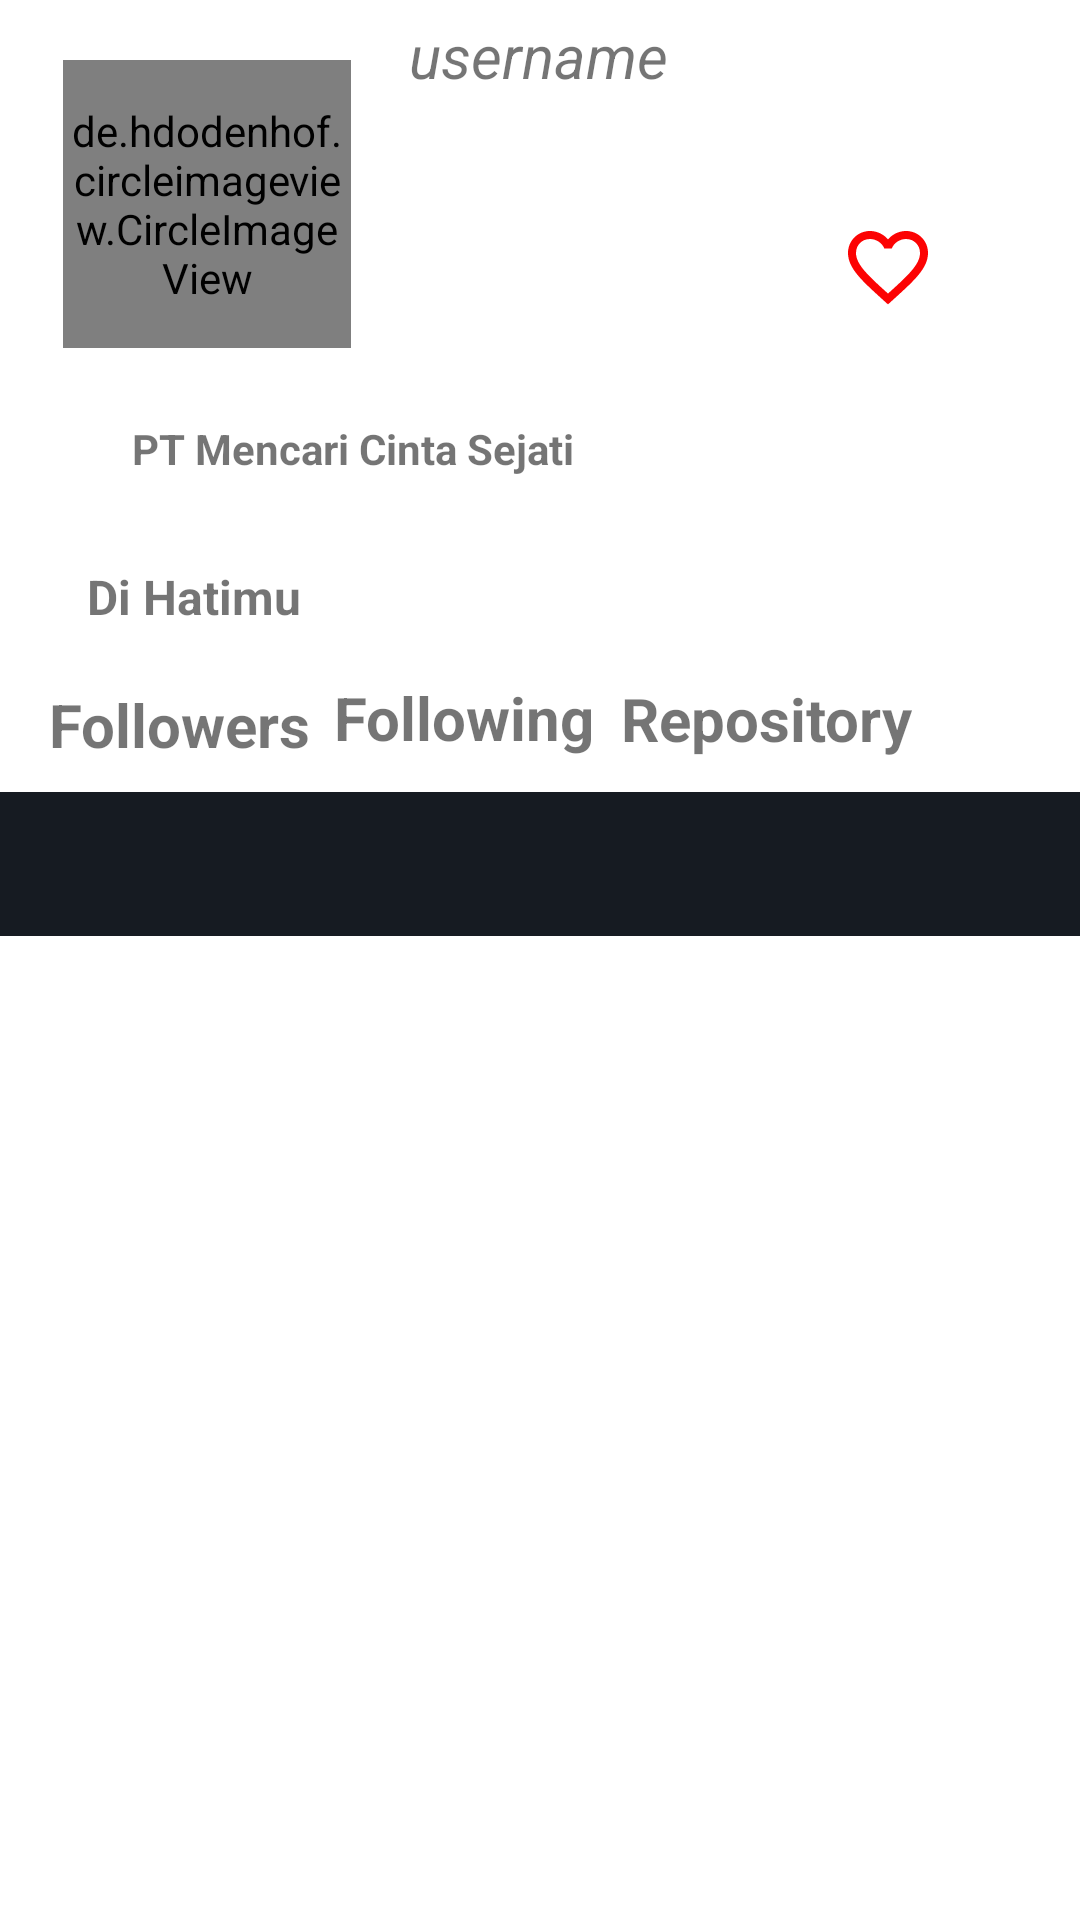

Point at icon controls on the screen. Image size 1080×1920, points as point (x, y).
favorite border: point (888, 267)
